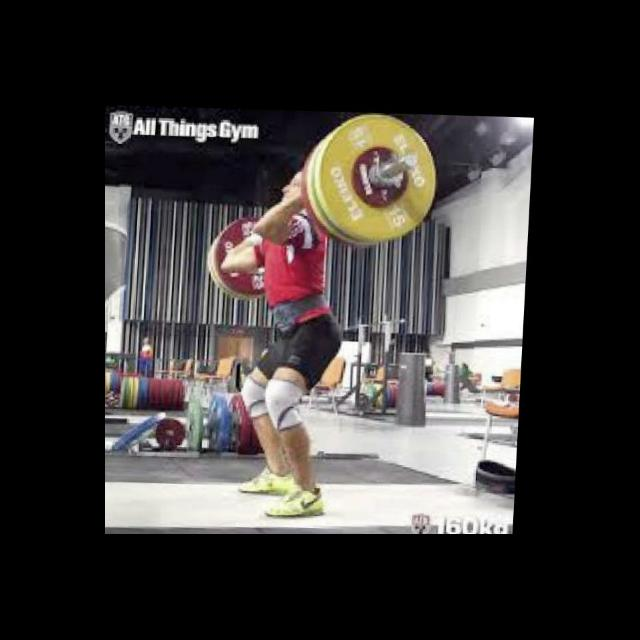barbell: (314, 111, 441, 249)
